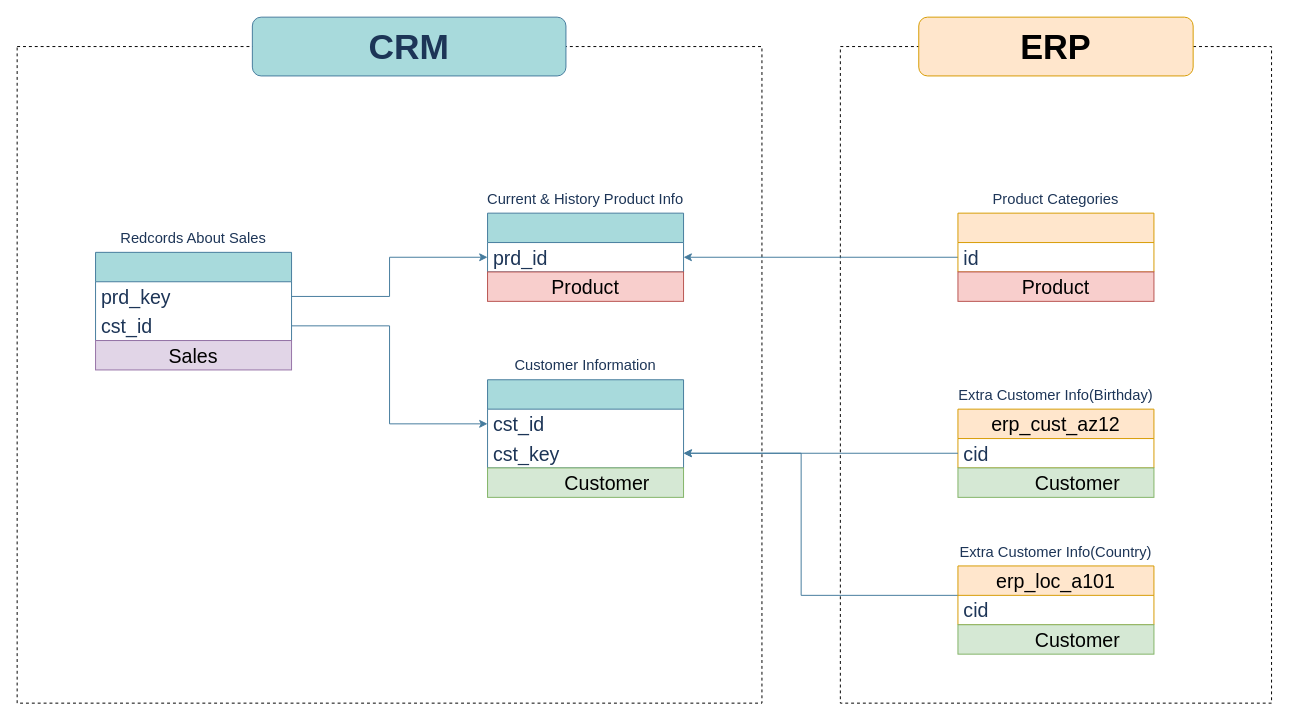
The diagram is 1289 pixels wide and 720 high, and some of its shapes have lost their labels. Here are the shapes that lost their labels. From the top down, the box of each, then its label:
(487, 212, 684, 272): crm_prd_info
(957, 212, 1154, 272): erp_px_cat_g1v2
(95, 251, 292, 341): crm_sales_details
(487, 379, 684, 468): crm_cust_info
